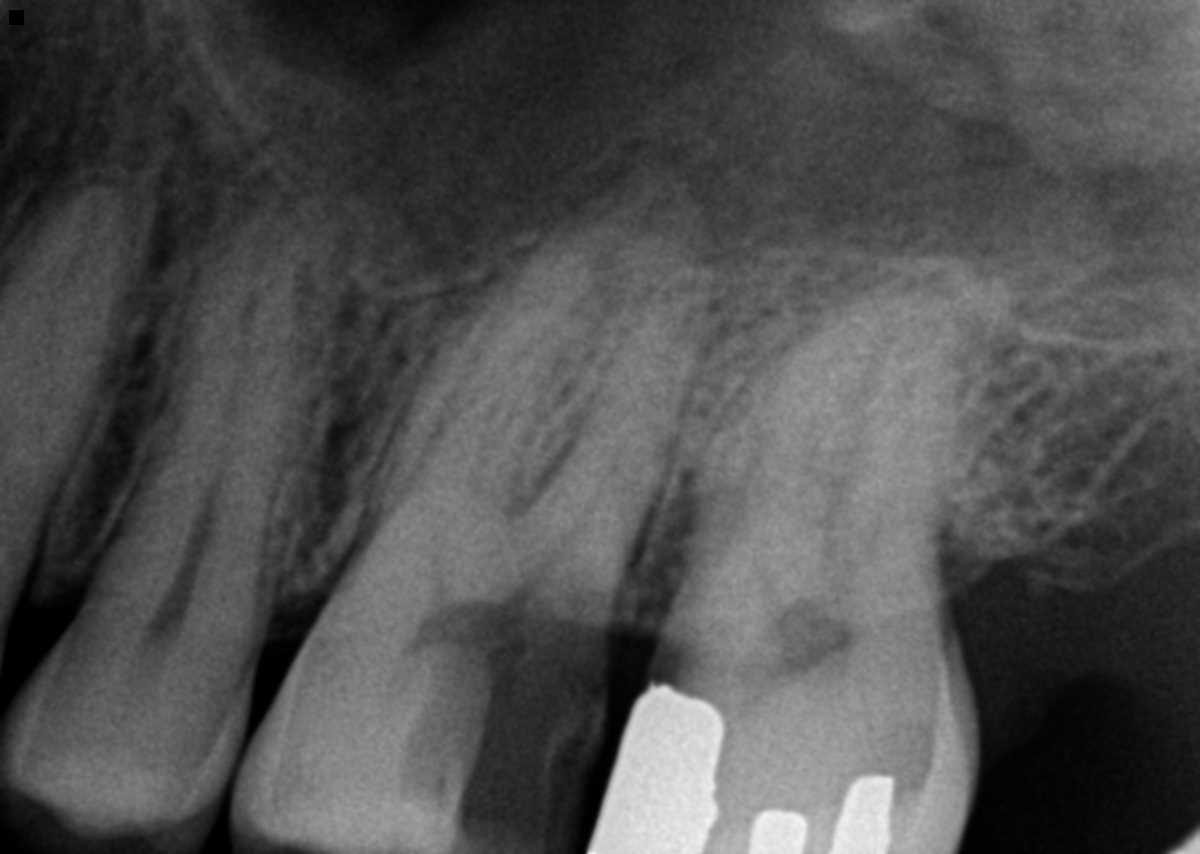Apical Lesion: (567, 138, 751, 289)
Distal Canal: (536, 389, 646, 582), (848, 432, 910, 583)
Distal Root: (516, 268, 710, 624), (827, 348, 972, 601)
Main Canal: (167, 289, 257, 597)
Main Root: (84, 208, 311, 603), (0, 177, 137, 577)
Mesial Root: (381, 255, 599, 520), (691, 313, 879, 589)
Palatal Root: (386, 167, 711, 610)
decay: (394, 615, 612, 854)
